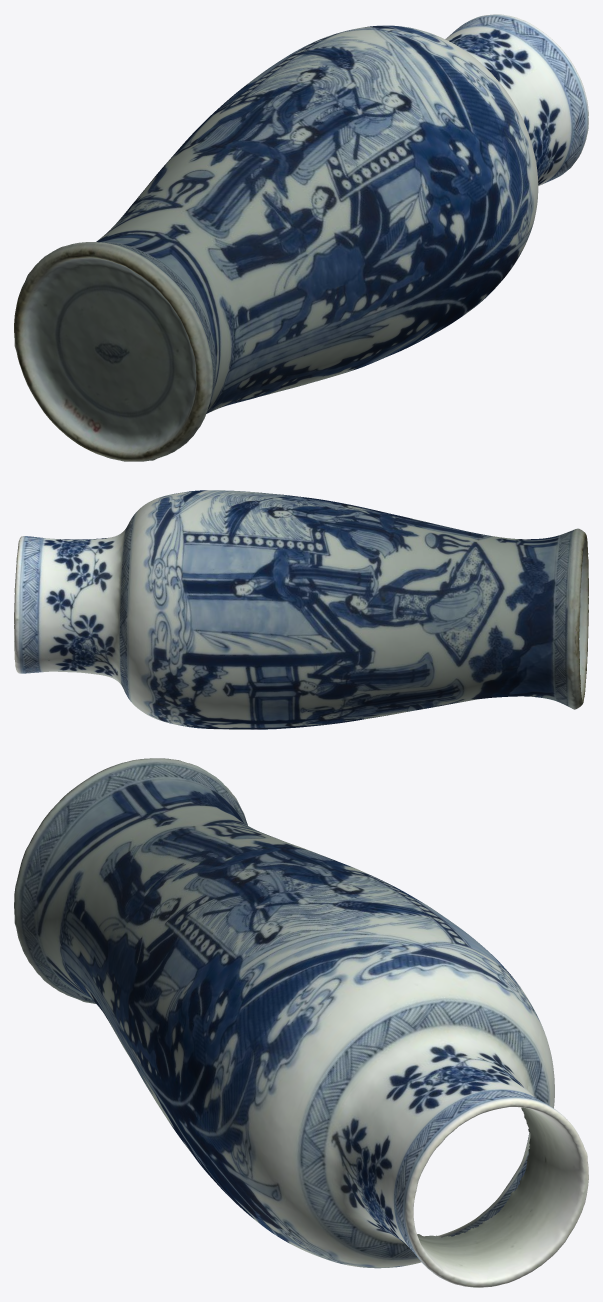
The model's file is baluster-vase.glb.
The picture shows the model from 3 angles, top to bottom: view 1: azimuth 30°, elevation 25°; view 2: azimuth 150°, elevation 25°; view 3: azimuth 270°, elevation 25°; orthographic projection. The views are drawn at different scales.
Bounding box in the file's own units: 0.4105 × 0.1708 × 0.278.
Materials: 1 (1 with a texture image).
